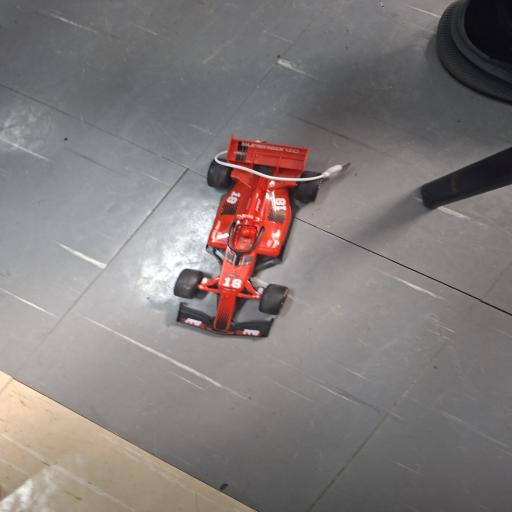carro: (169, 136, 371, 345)
